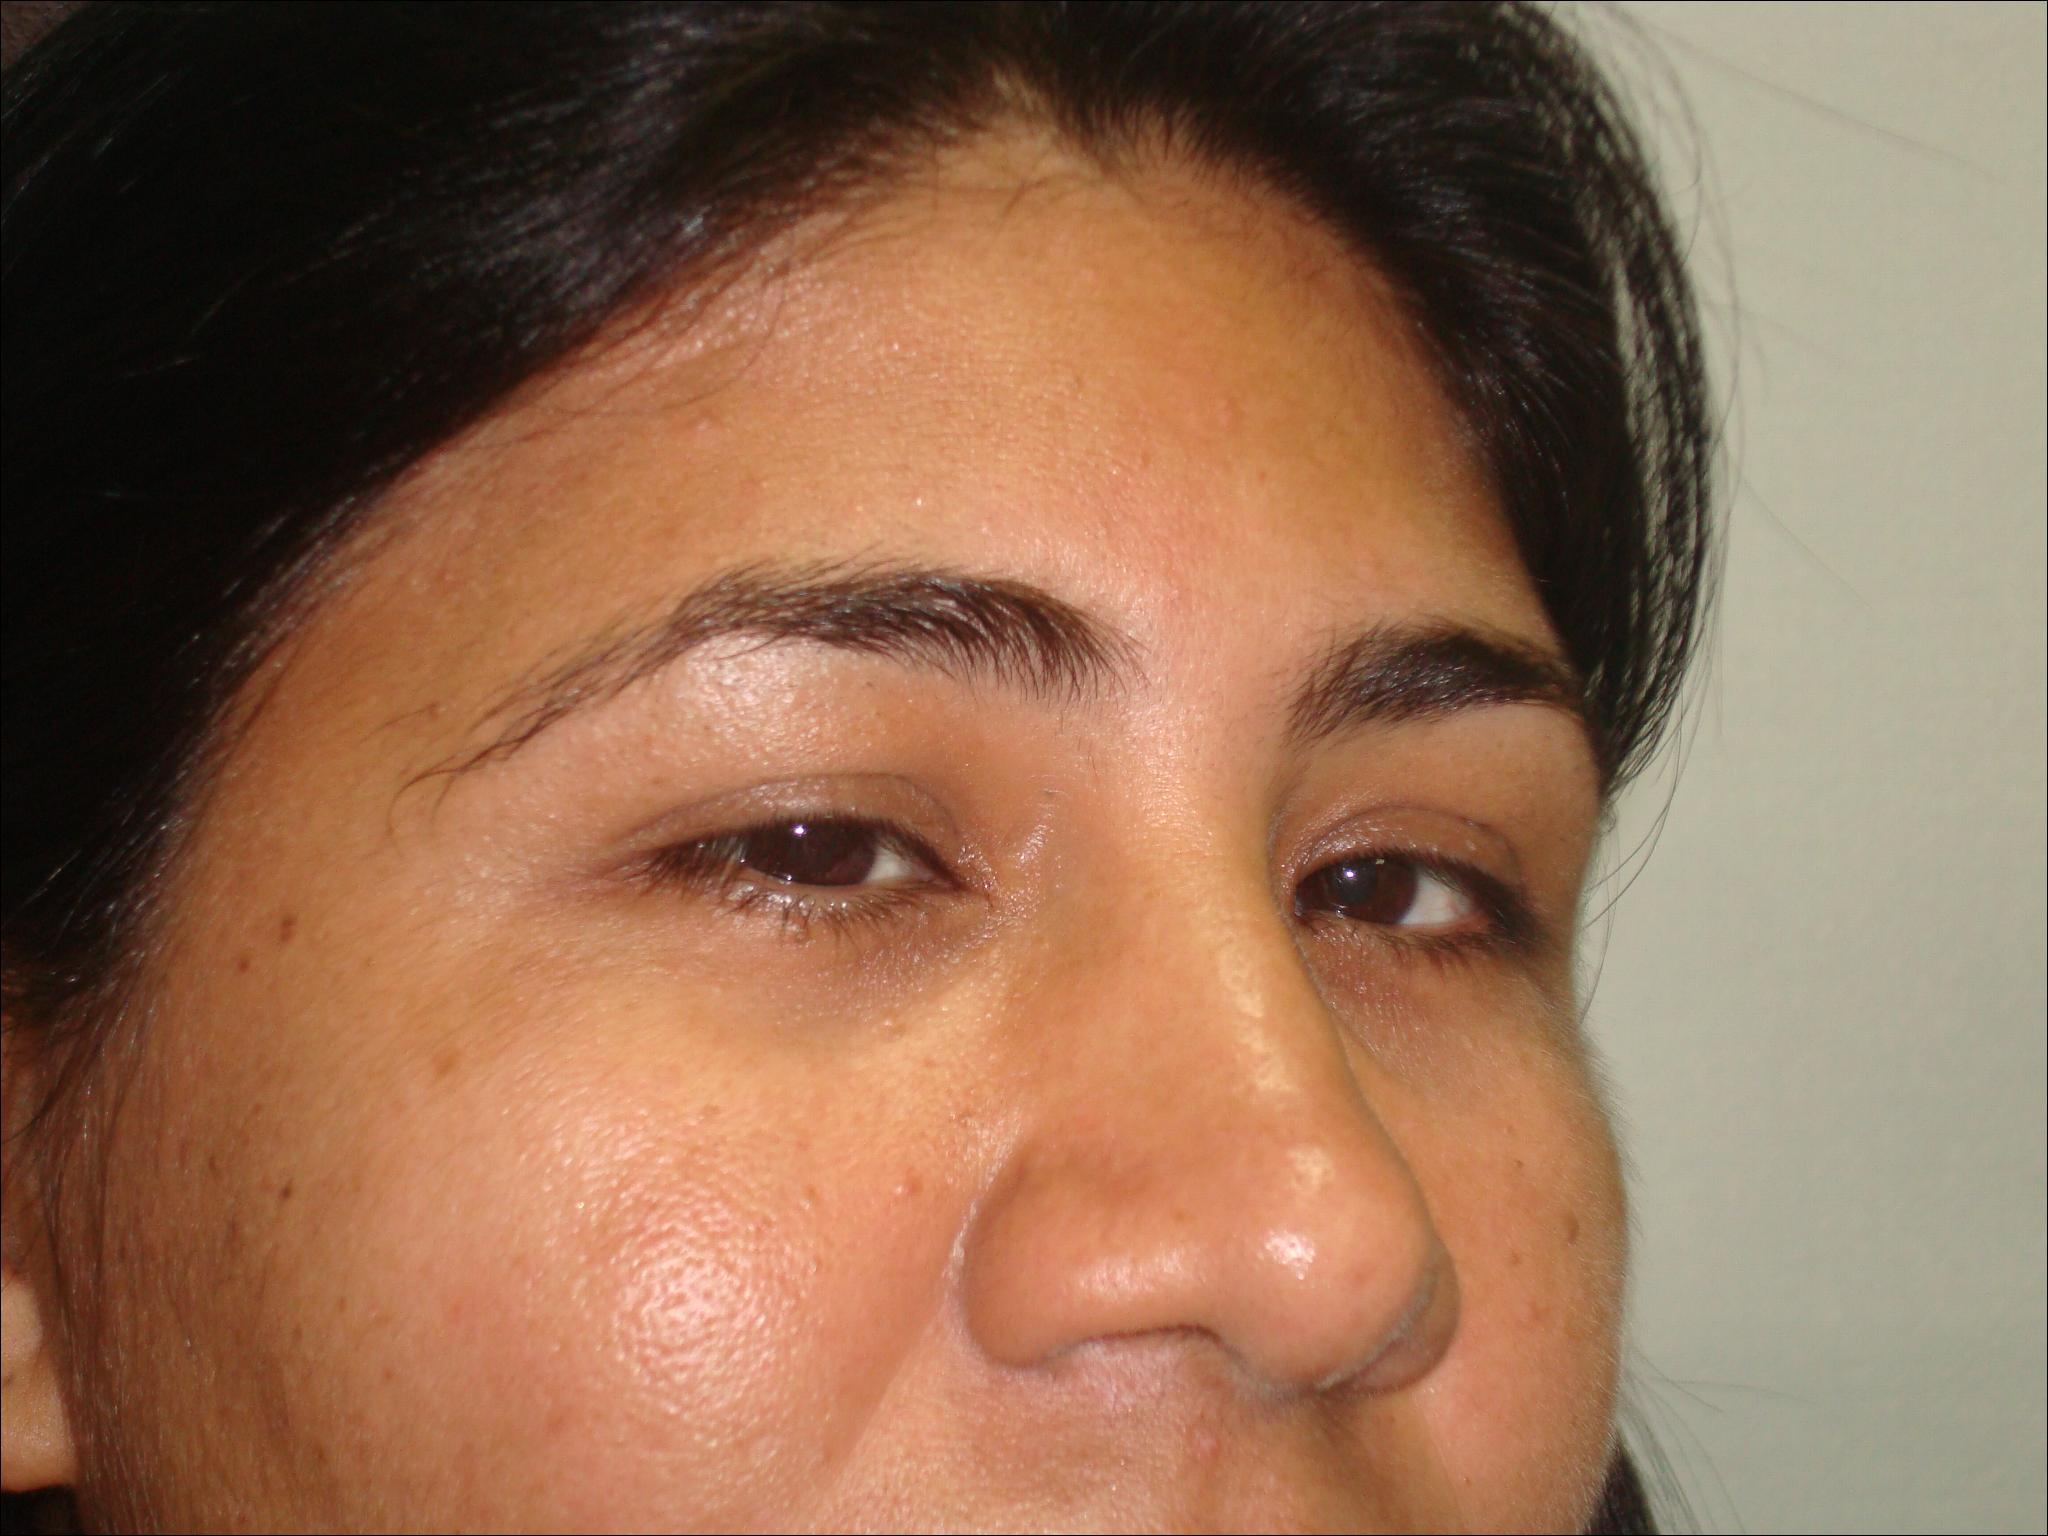flash: (789, 820, 811, 841), (1342, 865, 1358, 883)
limbo: (742, 774, 879, 912), (1295, 836, 1413, 926)
